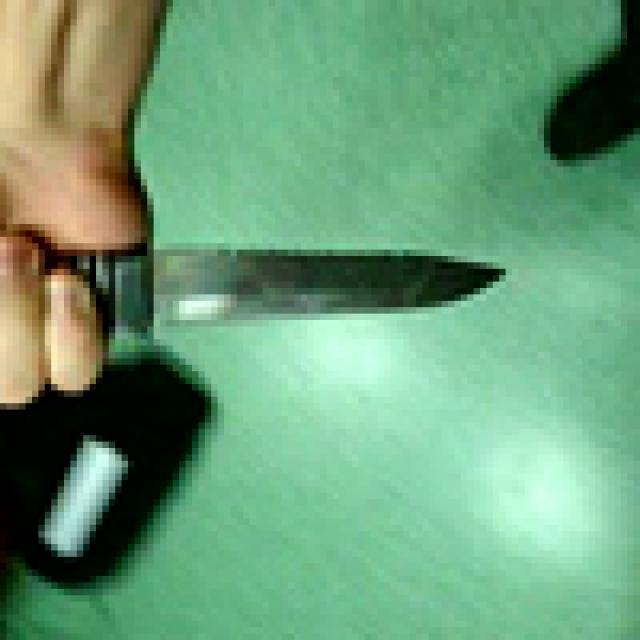Knife: (12, 224, 538, 371)
